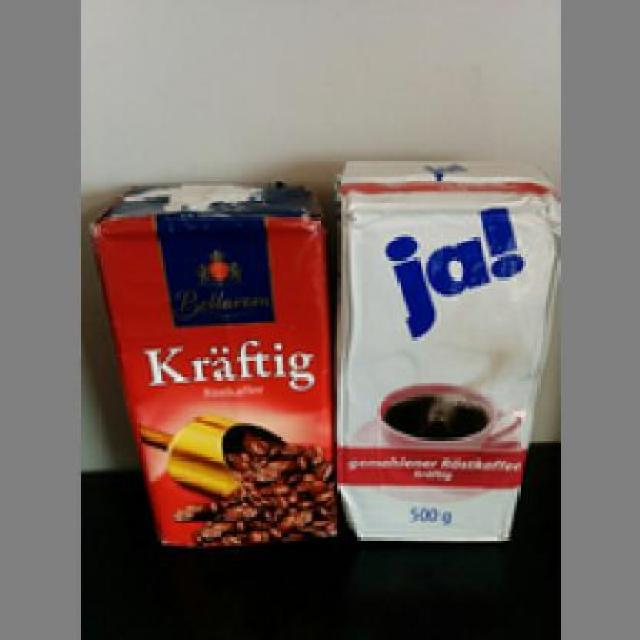Coffee: (89, 177, 334, 540), (332, 157, 554, 543)
